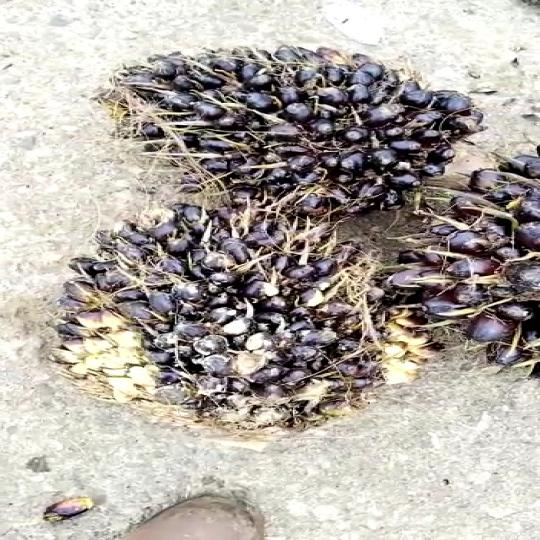mentah: (54, 204, 421, 456), (93, 36, 465, 222), (389, 146, 540, 379)
